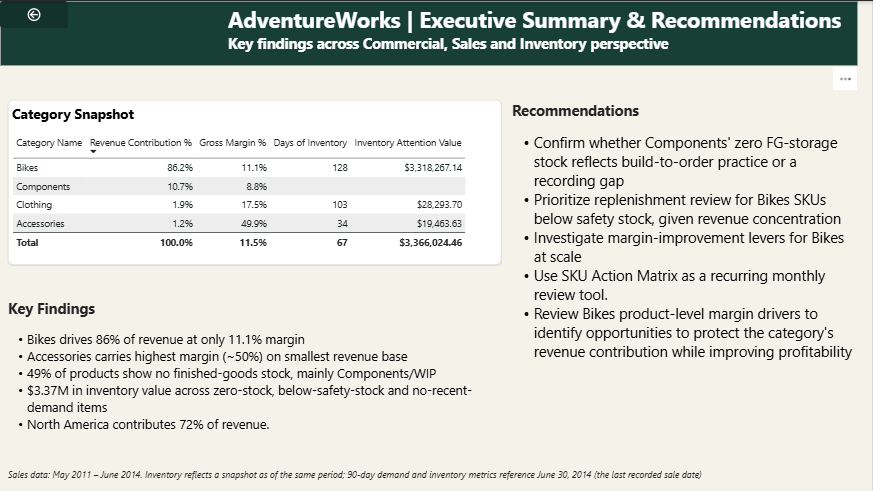

The dashboard page shown, as its layout file describes it:
{"tool":"powerbi","page":{"name":"Exec Summary ","canvas":[1280,720],"ordinal":4},"visuals":[{"type":"shape","box":[0,0,1260,95],"z":0},{"type":"textbox","box":[335,5,990,90],"z":1000},{"type":"actionButton","box":[0,0,100,40],"z":2000},{"type":"tableEx","title":"Category Snapshot","fields":{"Values":["DimProductCategory.Category Name","_Measures.Revenue Contribution %","_Measures.Gross Margin %","_Measures.Days of Inventory","_Measures.Inventory Attention Value"]},"box":[11.7,145,725,241.7],"z":3000},{"type":"textbox","box":[12,437,725,223],"z":4000},{"type":"textbox","box":[752,146,508,402],"z":5000},{"type":"textbox","box":[12.2,686.7,1247.8,23.3],"z":6000}]}

Visuals, with their boxes in screenshot pixels (x1, y1, x2, y2), scaled from the page's 1280x720 canvas onto the 873x491 screenshot:
shape: [left=0, top=0, right=859, bottom=65]
textbox: [left=228, top=3, right=872, bottom=65]
actionButton: [left=0, top=0, right=68, bottom=27]
"Category Snapshot" tableEx: [left=8, top=99, right=502, bottom=264]
textbox: [left=8, top=298, right=503, bottom=450]
textbox: [left=513, top=100, right=859, bottom=374]
textbox: [left=8, top=468, right=859, bottom=484]
